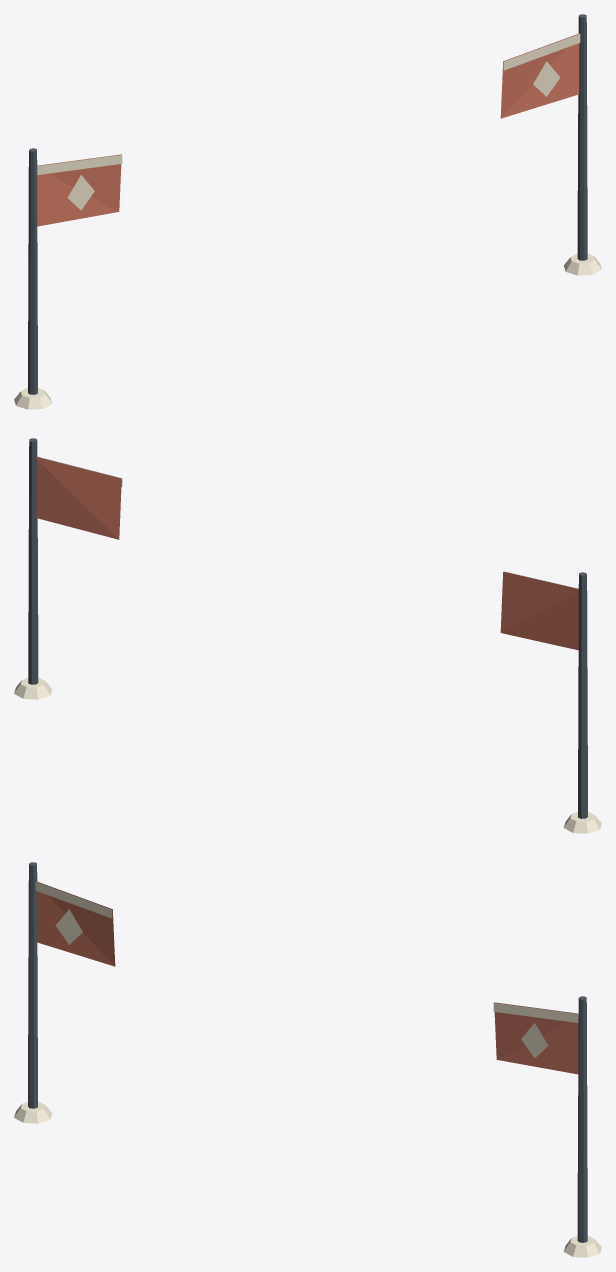
The model's file is gate-coral.glb.
3 views of the same model, one above another, from view 1: azimuth 30°, elevation 25°; view 2: azimuth 150°, elevation 25°; view 3: azimuth 330°, elevation 25° (orthographic).
Parts seen in each view (by area): view 1: gate-coral; view 2: gate-coral; view 3: gate-coral.
Part boxes in pixels (<box>): gate-coral: <box>14,14,601,409</box>; gate-coral: <box>14,438,601,833</box>; gate-coral: <box>14,862,601,1257</box>.
Bounding box in the file's own units: 6.8 × 2.8 × 0.4.
